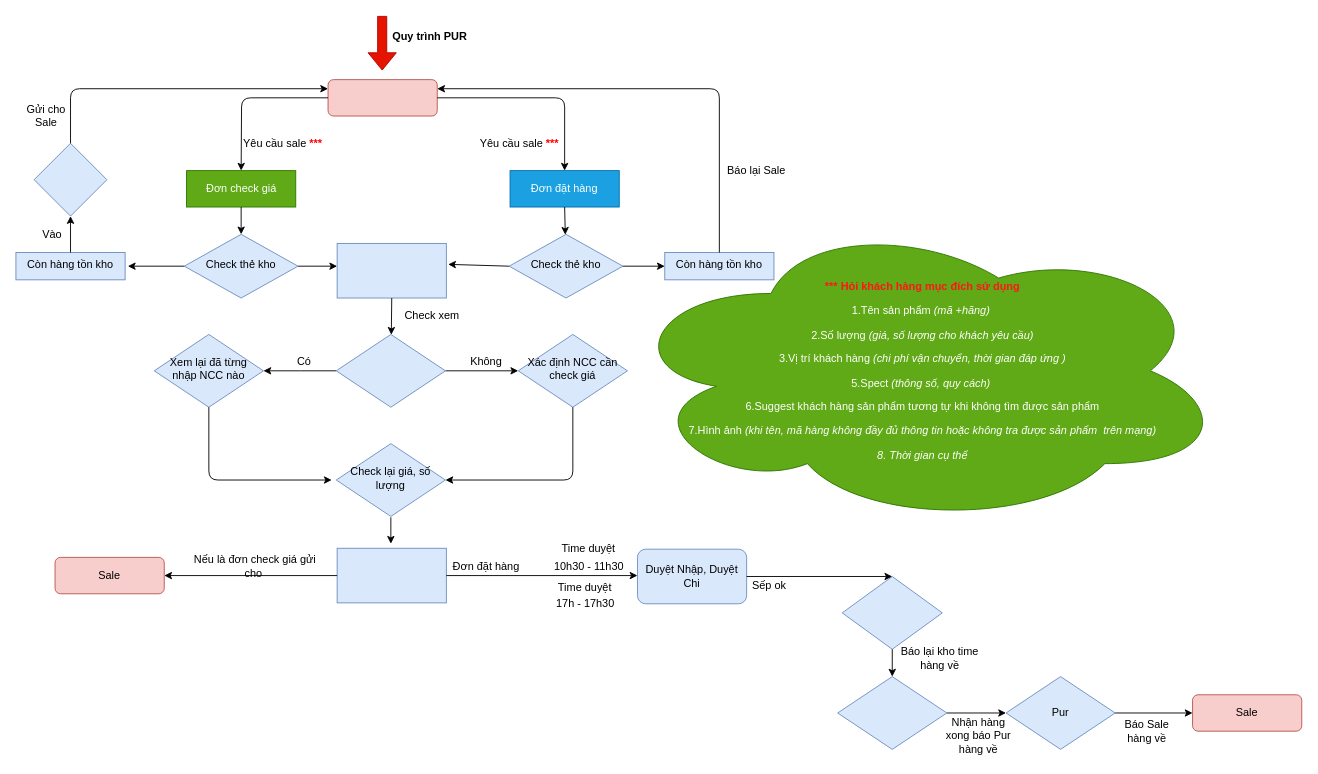
This 1318x774 diagram has some shape labels left out. The box of each missing label's shape, as (x1, y1, x2, y2) in pixels:
Bid giá: (33, 142, 107, 216)
Báo NCC lấy hàng: (841, 576, 942, 649)
Kho: (837, 676, 947, 749)
Không còn hàng tồn kho: (336, 243, 446, 298)
Nhận đơn hàng Sale: (327, 79, 437, 116)
SP đã mua trước đó: (335, 334, 445, 407)
Vào Bid giá: (336, 547, 446, 603)
